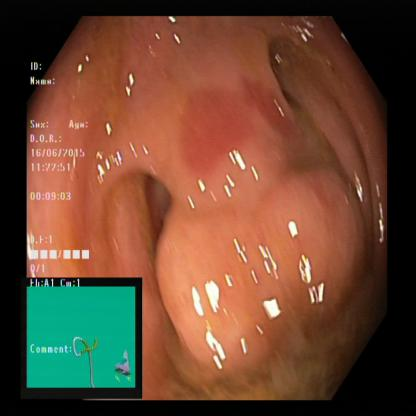Labels: (23, 55, 104, 279), (25, 276, 141, 400)
Polyps: (150, 196, 245, 362), (250, 184, 354, 291)
